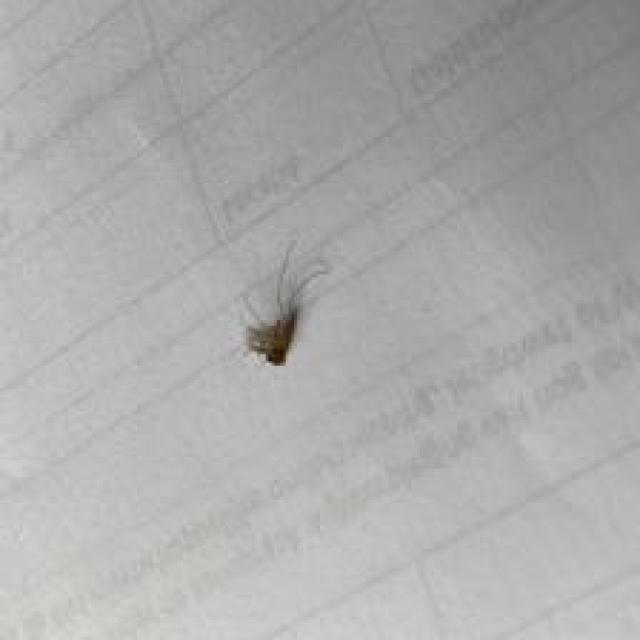Culex: (239, 242, 330, 367)
